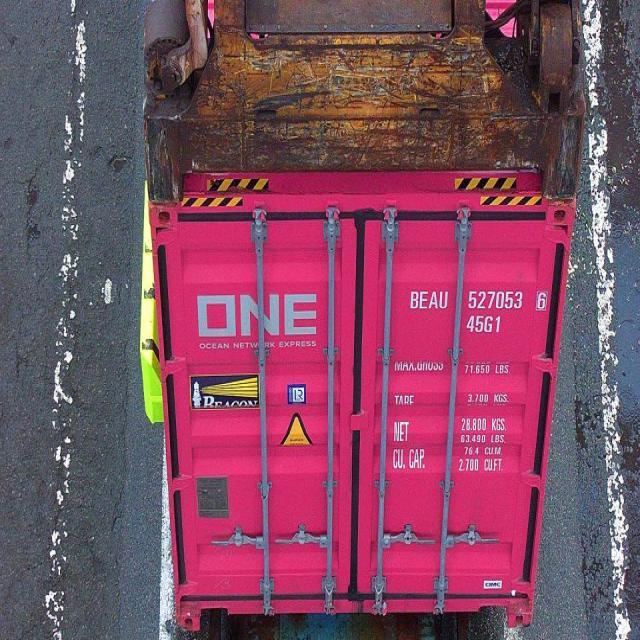ISO: (468, 314, 504, 334)
container_number: (409, 288, 546, 312)
